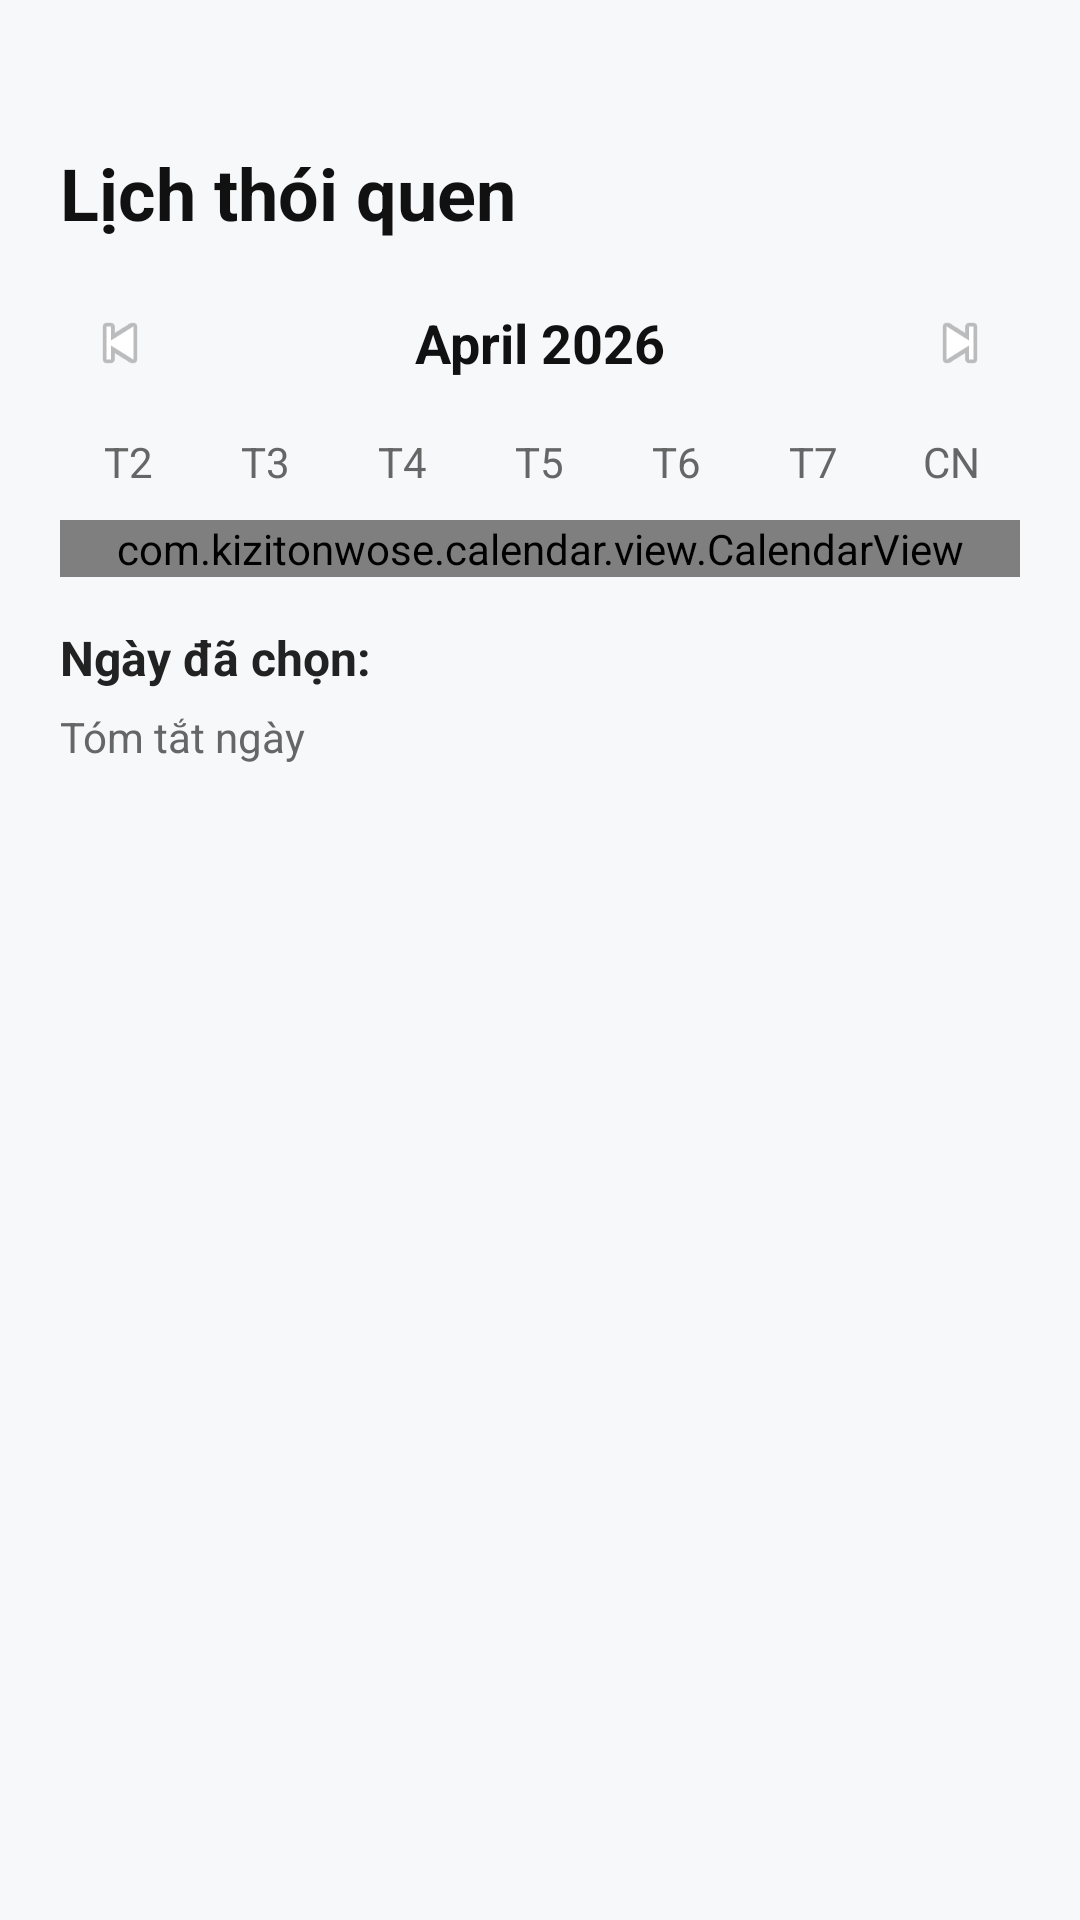

Point at icon controls on the screen. Image size 1080×1920, points as [x,y].
next: [960,343]
previous: [120,343]
